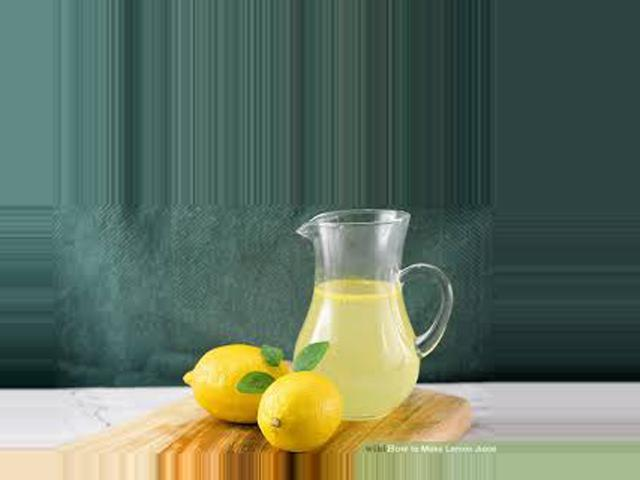lemon: (240, 365, 346, 446)
